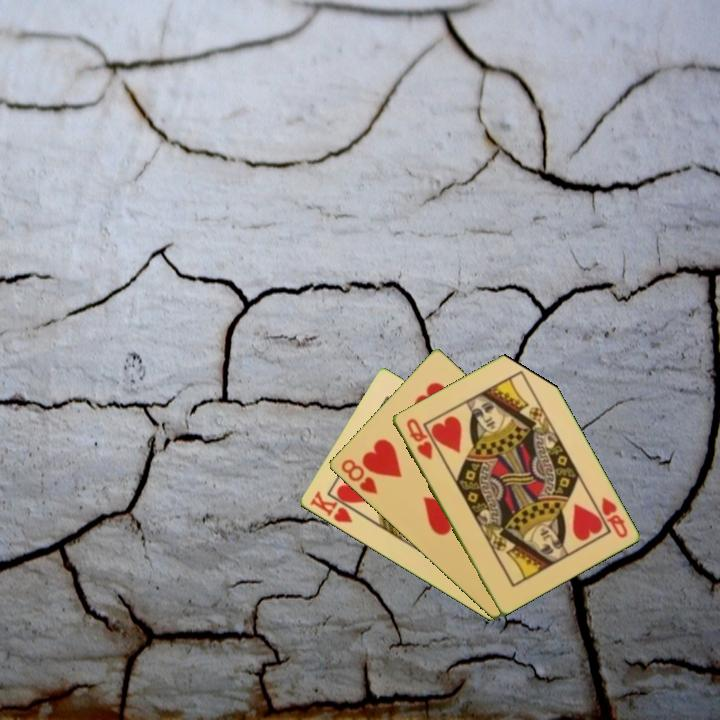8h: (337, 455, 381, 497)
Kh: (306, 487, 362, 526)
Qh: (402, 414, 435, 462), (597, 493, 630, 541)
